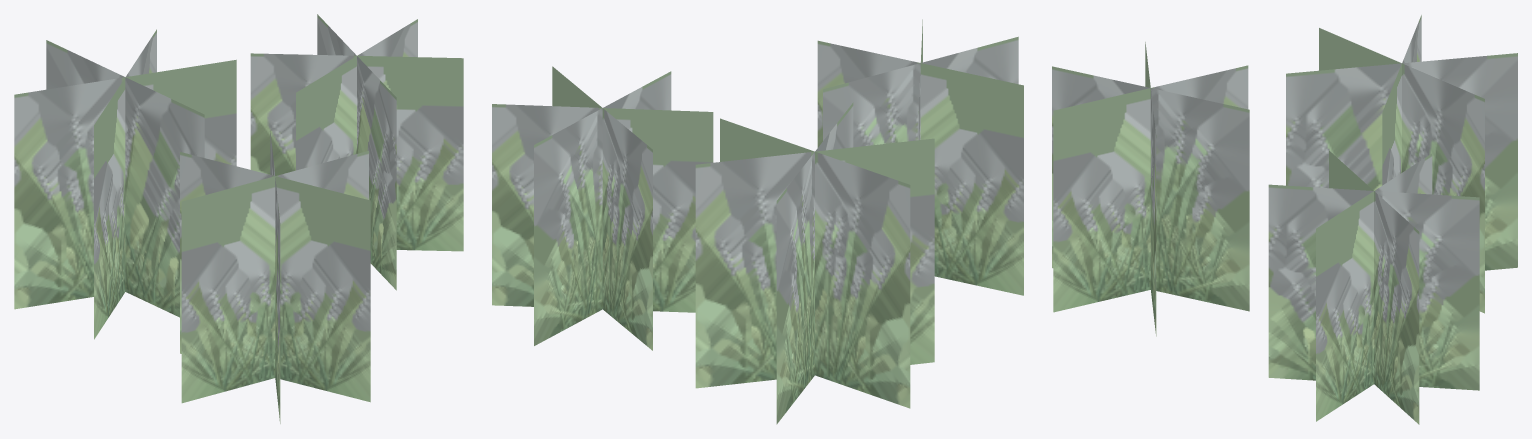
The model's file is crop_lavender_2.glb.
3 views of the same model, side by side, from view 1: azimuth 30°, elevation 25°; view 2: azimuth 150°, elevation 25°; view 3: azimuth 270°, elevation 25° (orthographic). The views are drawn at different scales.
Parts seen in each view (by area): view 1: crop_lavender_2; view 2: crop_lavender_2; view 3: crop_lavender_2.
Part boxes in pixels (box(x1,y1,x2,y2)): crop_lavender_2: box(14, 14, 463, 423); crop_lavender_2: box(492, 19, 1023, 424); crop_lavender_2: box(1052, 15, 1517, 424).
Size of the model in its own units: 0.5884 by 0.3 by 0.5901.
1 material, 1 textured.
